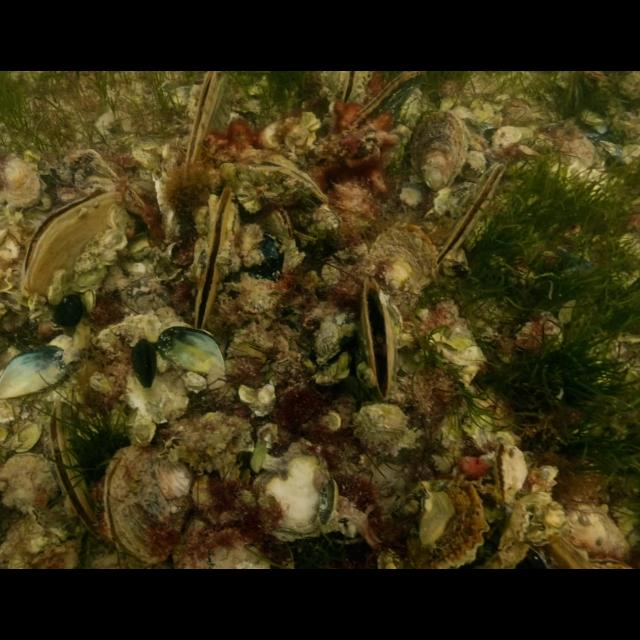Oyster-Closed: (100, 446, 194, 566), (363, 222, 439, 322), (406, 108, 472, 195), (350, 71, 430, 133)
Oyster-Open: (24, 186, 122, 296), (417, 482, 531, 568), (434, 162, 511, 268), (46, 400, 102, 542), (190, 186, 236, 332), (230, 153, 330, 219), (356, 272, 398, 404), (182, 70, 228, 180), (489, 441, 527, 501), (257, 206, 297, 244), (336, 71, 366, 109)
